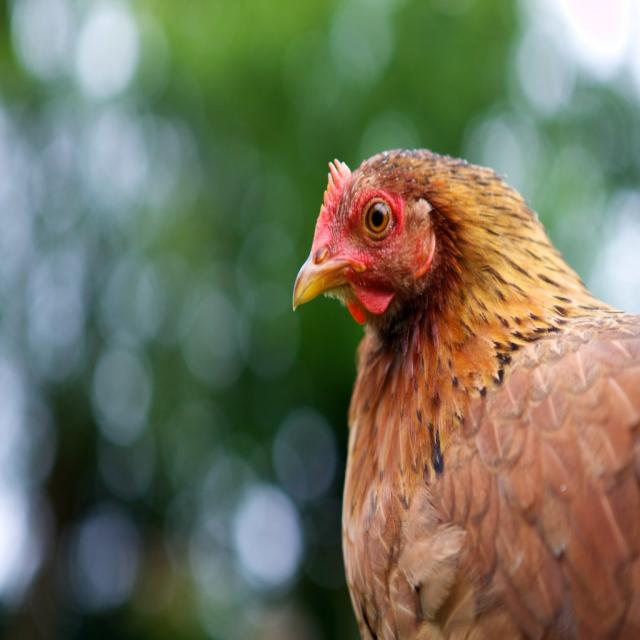Chicken: (286, 150, 640, 640)
